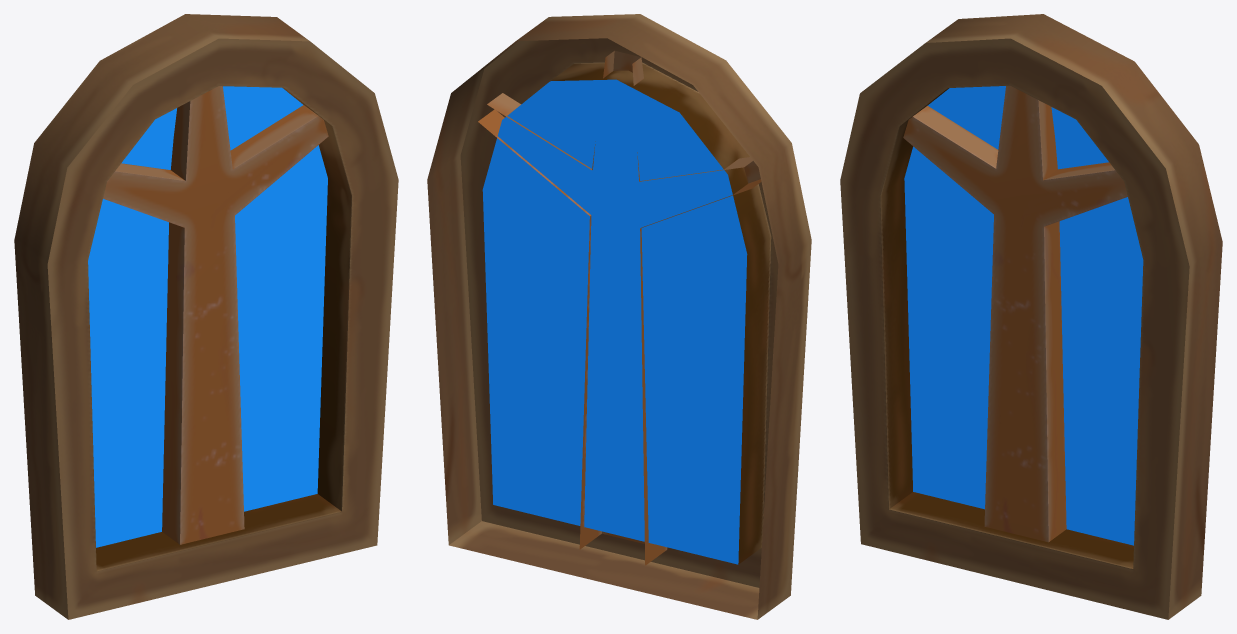
File: SM_window.fbx
The picture shows the model from 3 angles, left to right: view 1: azimuth 30°, elevation 25°; view 2: azimuth 150°, elevation 25°; view 3: azimuth 330°, elevation 25°; orthographic projection.
Visible parts, largest first — view 1: floor_big.019; view 2: floor_big.019; view 3: floor_big.019.
Part boxes in pixels (<box>): floor_big.019: <box>14,14,398,619</box>; floor_big.019: <box>427,14,811,619</box>; floor_big.019: <box>840,14,1222,619</box>.
Bounding box in the file's own units: 52.32 × 77.72 × 8.59.
Materials: 3 (3 with a texture image).
